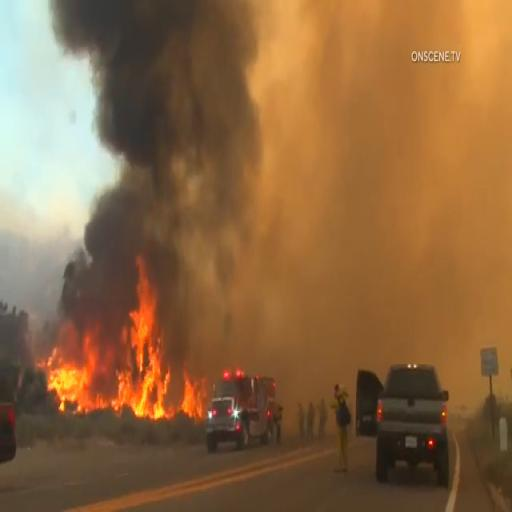fire: (43, 232, 212, 429)
smoke: (48, 3, 259, 238)
